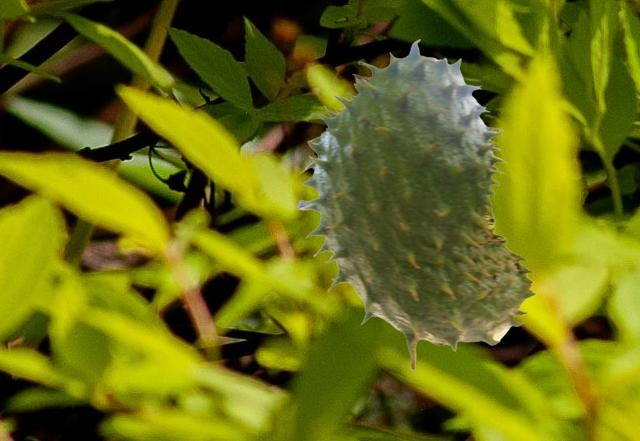guyabano: (297, 39, 535, 372)
